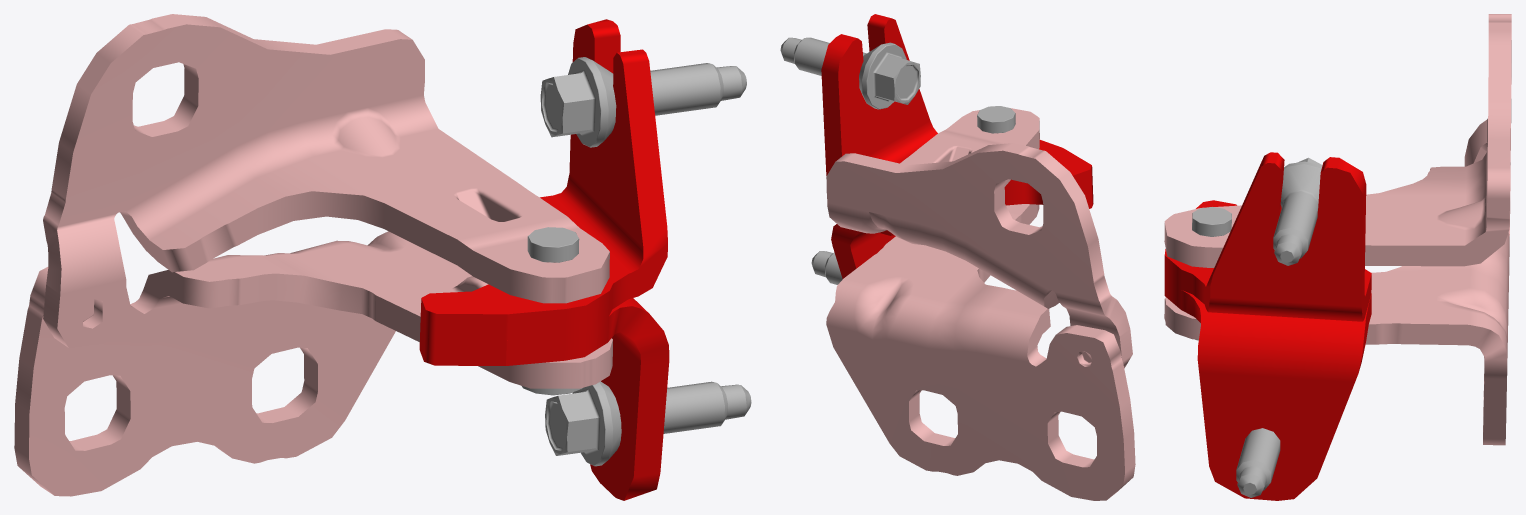
The model's file is joint.fbx.
The picture shows the model from 3 angles, left to right: view 1: azimuth 30°, elevation 25°; view 2: azimuth 150°, elevation 25°; view 3: azimuth 270°, elevation 25°; orthographic projection. The views are drawn at different scales.
Parts seen in each view (by area): view 1: A0072601162, A0072601163, A0072601166, A0072601167, A007S010001, A007S010001_3, A007S110103; view 2: A0072601163, A0072601162, A0072601166, A007S010001, A0072601167, A007S110103, A007S010001_3; view 3: A0072601167, A0072601162, A0072601166, A0072601163, A007S010001, A007S010001_3, A007S110103.
Boxes of the visible parts, <box> form: A0072601162: <box>43,14,609,347</box>; A0072601163: <box>14,231,612,496</box>; A0072601166: <box>420,19,667,340</box>; A0072601167: <box>419,298,669,500</box>; A007S010001: <box>540,57,746,147</box>; A007S010001_3: <box>545,381,751,466</box>; A007S110103: <box>522,227,582,395</box>; A0072601163: <box>826,204,1135,500</box>; A0072601162: <box>826,108,1132,368</box>; A0072601166: <box>821,14,1092,191</box>; A007S010001: <box>780,37,920,109</box>; A0072601167: <box>831,184,1093,278</box>; A007S110103: <box>977,106,1015,133</box>; A007S010001_3: <box>811,251,842,284</box>; A0072601167: <box>1164,276,1371,500</box>; A0072601162: <box>1164,14,1511,267</box>; A0072601166: <box>1164,152,1371,321</box>; A0072601163: <box>1164,165,1510,445</box>; A007S010001: <box>1273,157,1322,265</box>; A007S010001_3: <box>1236,428,1280,497</box>; A007S110103: <box>1192,207,1231,340</box>.
Bounding box in the file's own units: 1.19 × 0.8771 × 0.7513.
